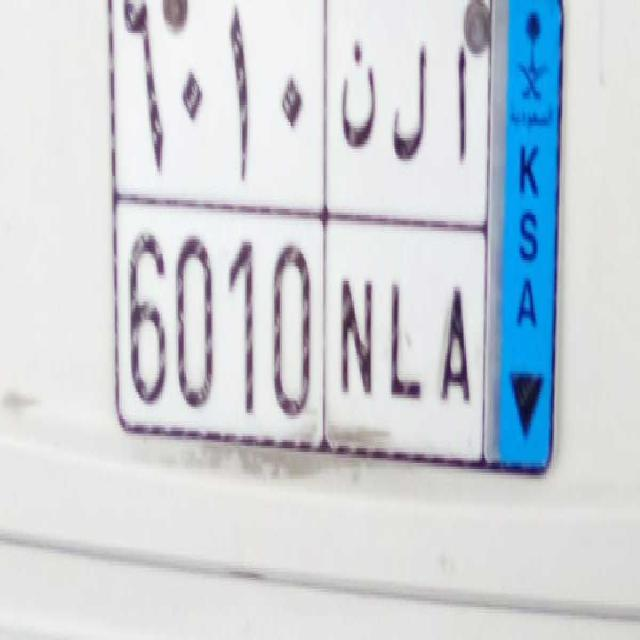license_plate: (118, 197, 482, 456)
